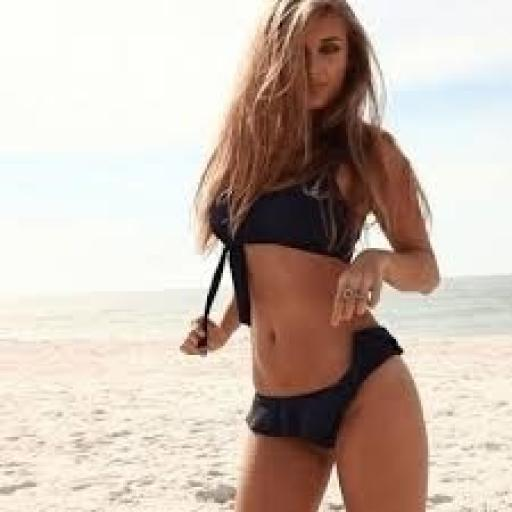dancing: (178, 0, 446, 510)
